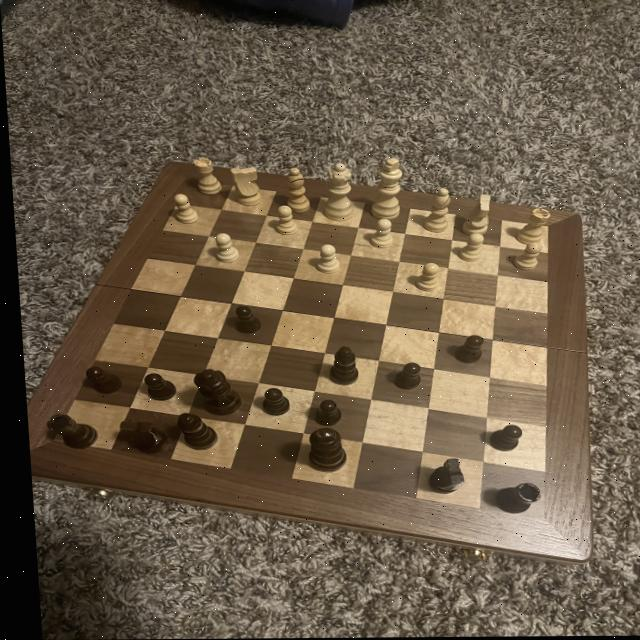bishop: (170, 408, 214, 455), (322, 344, 358, 388)
black-bishop: (298, 426, 345, 473)
black-king: (109, 414, 166, 458), (415, 457, 464, 495)
black-knight: (245, 386, 289, 420), (477, 422, 523, 454), (132, 372, 174, 404), (76, 364, 117, 396), (444, 334, 484, 366), (382, 361, 421, 393), (225, 303, 262, 336), (302, 400, 337, 428)
black-pawn: (184, 367, 240, 420)
black-queen: (35, 411, 95, 451), (484, 480, 538, 519)
black-rook: (415, 186, 453, 235), (278, 168, 309, 216)
white-bishop: (359, 156, 405, 222)
white-king: (453, 193, 494, 238), (225, 164, 260, 209)
white-knight: (404, 261, 443, 296), (164, 191, 200, 227), (504, 241, 544, 273), (307, 242, 342, 277), (205, 231, 239, 266), (452, 230, 484, 264), (269, 204, 300, 239), (364, 217, 395, 250)
white-pawn: (315, 160, 356, 224)
white-queen: (508, 208, 552, 248), (187, 154, 224, 199)
